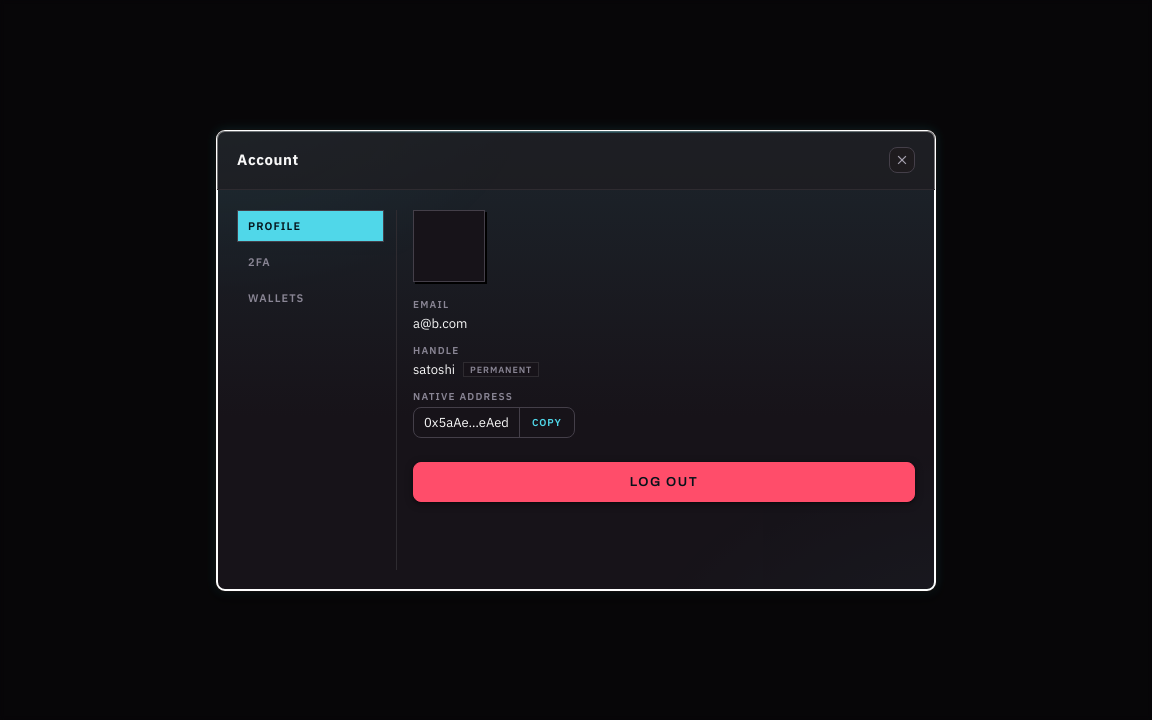
Test case: <AccountModal /> — 2FA section › shows the "on" state when 2FA is set
Click the button with test id "account-nav-mfa". click: (310, 262)
box: [237,246,384,278]
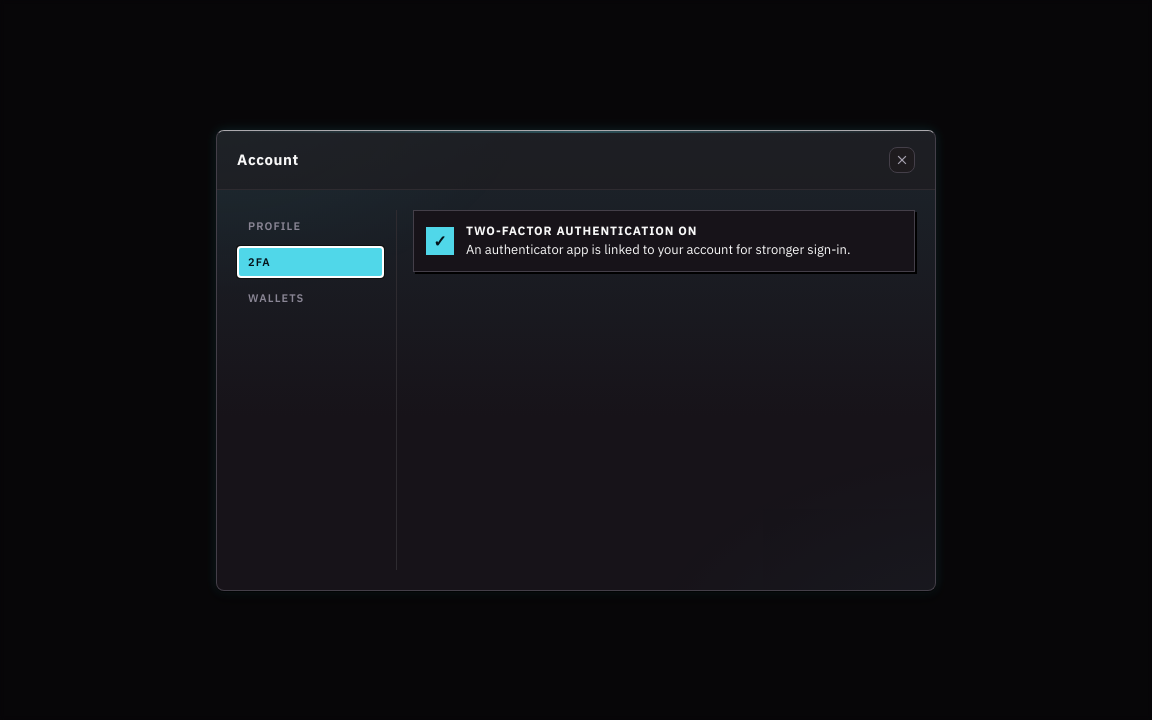
Expected: the element with test id "mfa-on" is shown, [413,210,915,272]
